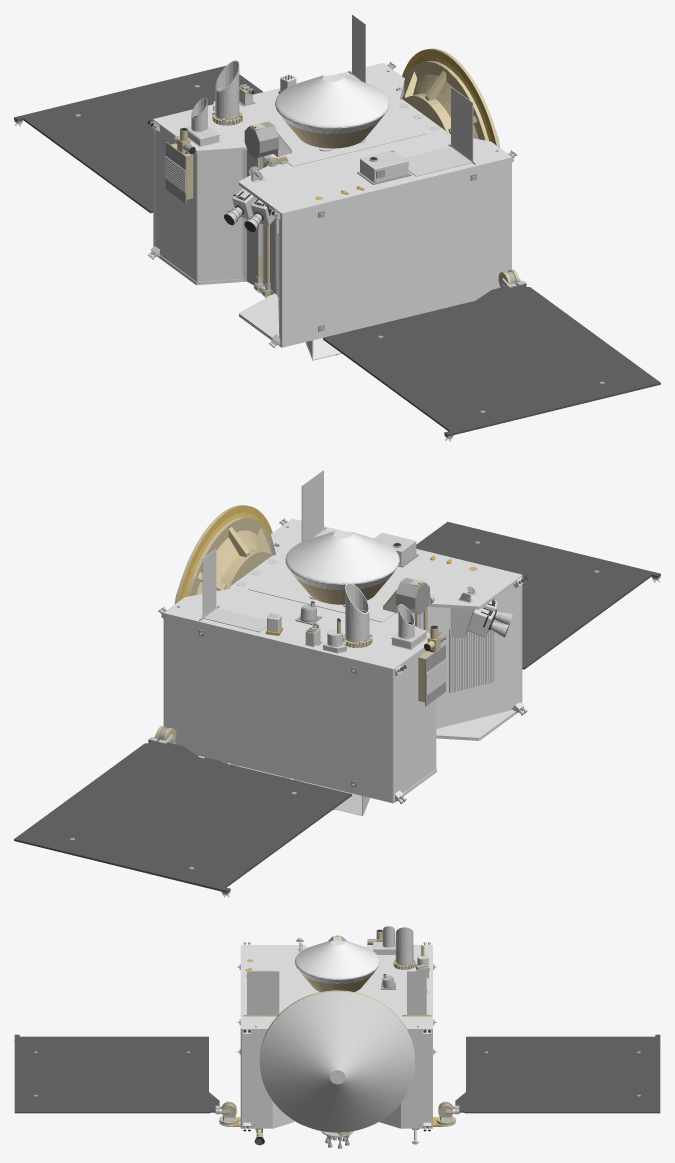
The model's file is osiris-rex-nasa.glb.
3 renders of one model, top to bottom at view 1: azimuth 30°, elevation 25°; view 2: azimuth 150°, elevation 25°; view 3: azimuth 270°, elevation 25°, orthographic. The views are drawn at different scales.
Visible parts, largest first — view 1: Main Layer; view 2: Main Layer; view 3: Main Layer.
Boxes of the visible parts, x1,y1,x2,y2 form: Main Layer: [14, 14, 660, 441]; Main Layer: [14, 470, 660, 897]; Main Layer: [14, 926, 660, 1148].
Bounding box in the file's own units: 13.72 × 12.01 × 34.65.
